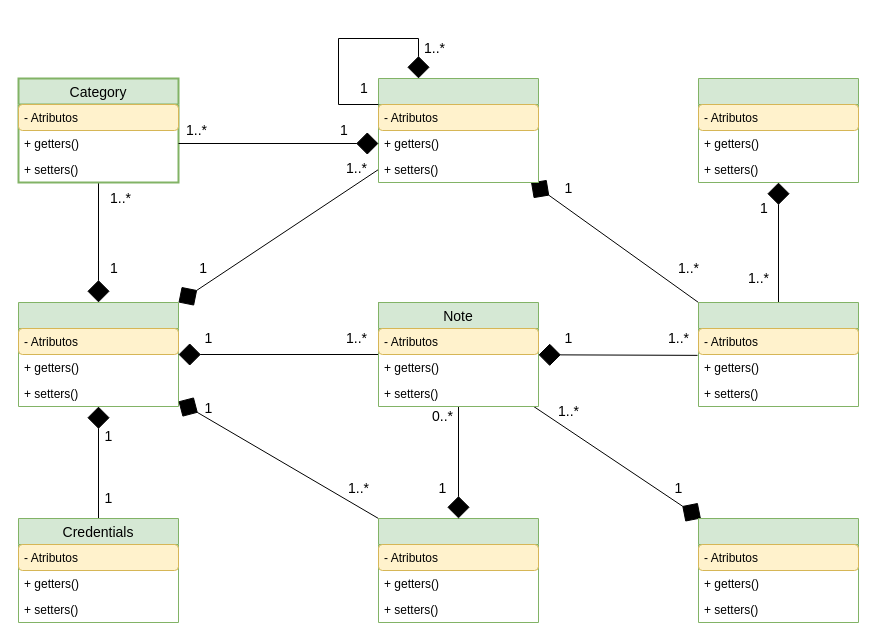
The diagram is 876 pixels wide and 643 high, and some of its shapes have lost their labels. The shapes that lost their labels are listed below. From the top down, each one's box as (x1, y1, x2, y2) in pixels, then its label:
(378, 78, 538, 182): Product
(698, 78, 858, 182): Comment
(18, 302, 178, 406): User
(698, 302, 858, 406): Note line
(378, 518, 538, 622): Client
(698, 518, 858, 622): Invoice
